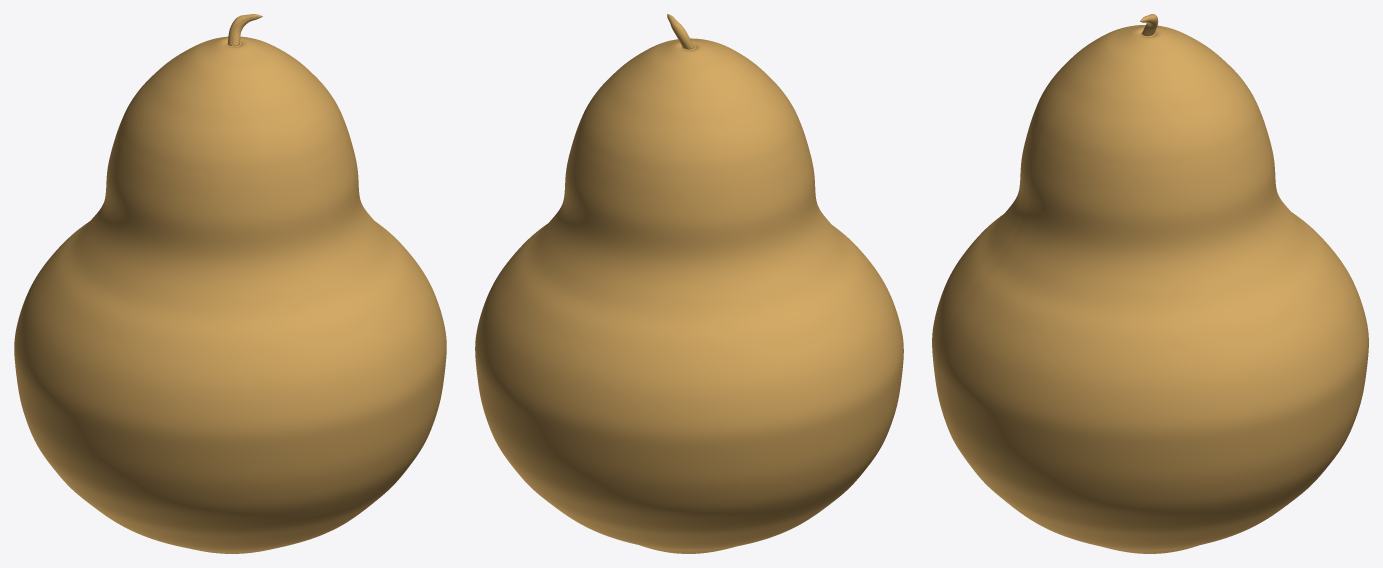
The model's file is para.fbx.
The picture shows the model from 3 angles, left to right: view 1: azimuth 30°, elevation 25°; view 2: azimuth 150°, elevation 25°; view 3: azimuth 270°, elevation 25°; orthographic projection. The views are drawn at different scales.
Parts seen in each view (by area): view 1: Cylinder; view 2: Cylinder; view 3: Cylinder.
Boxes of the visible parts, <box> form: Cylinder: <box>14,14,446,553</box>; Cylinder: <box>475,14,903,553</box>; Cylinder: <box>932,14,1368,553</box>.
Size of the model in its own units: 431 by 569 by 426.
